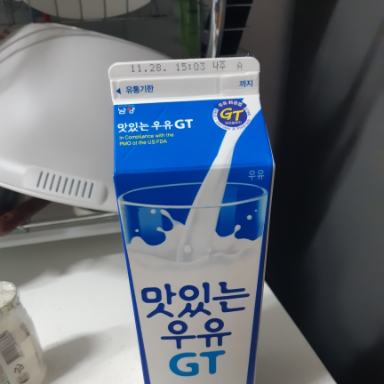milk: (107, 56, 276, 383)
